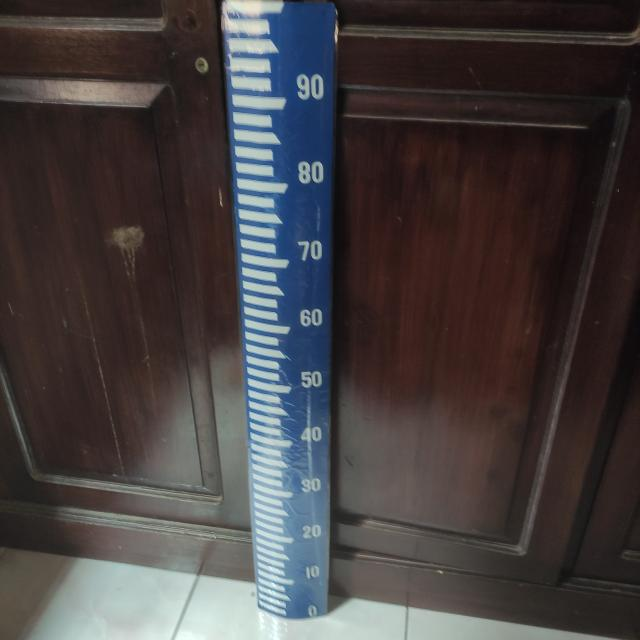10: (301, 561, 321, 582)
20: (301, 522, 323, 542)
30: (300, 475, 322, 495)
40: (300, 426, 324, 444)
50: (298, 367, 324, 389)
60: (299, 306, 324, 330)
70: (295, 239, 323, 266)
80: (296, 160, 326, 186)
90: (294, 72, 326, 105)
staff: (223, 2, 333, 620)
